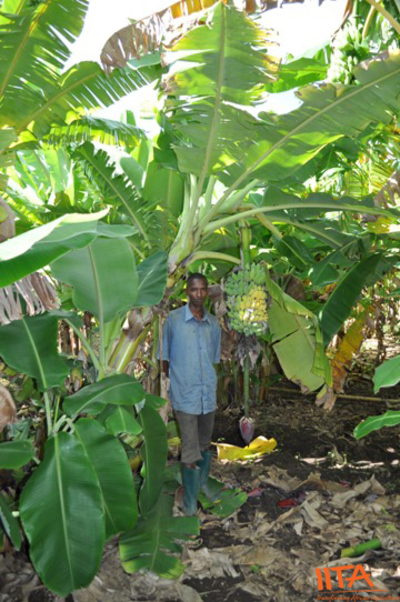bananaHand: (224, 261, 271, 339)
